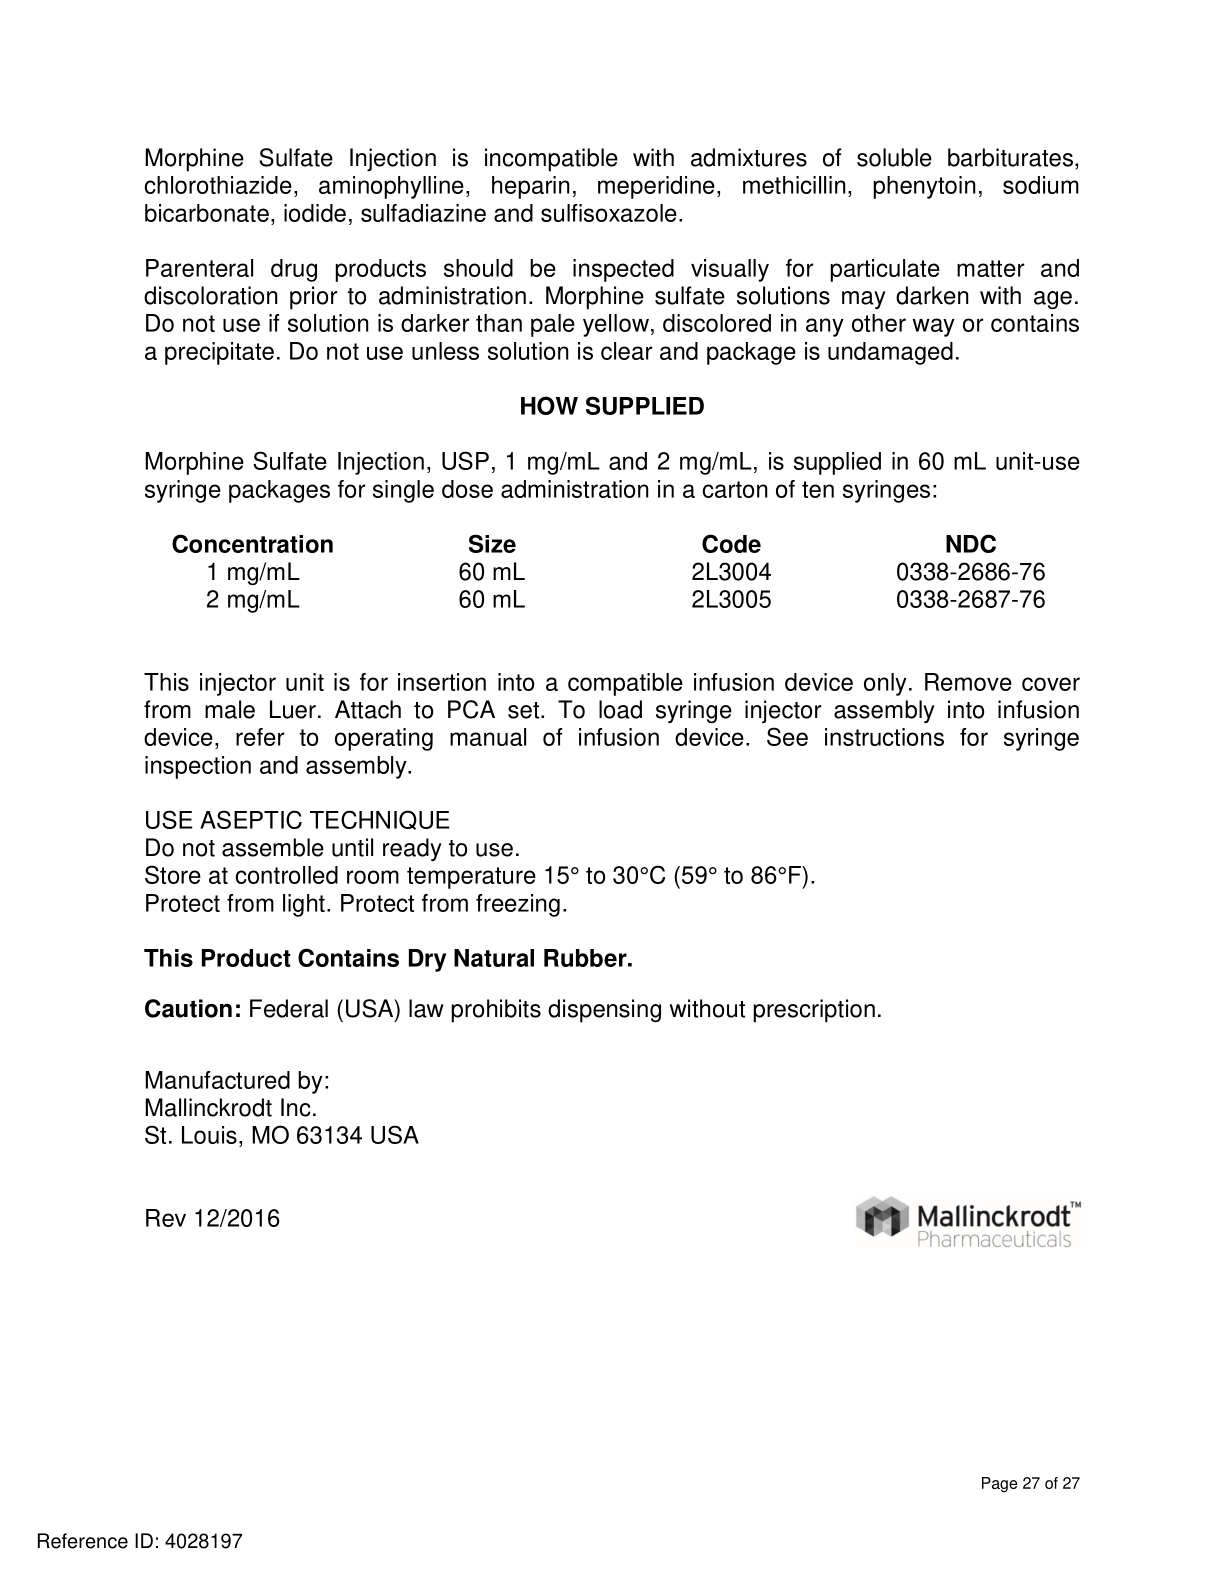nolines: (168, 531, 1048, 611)
